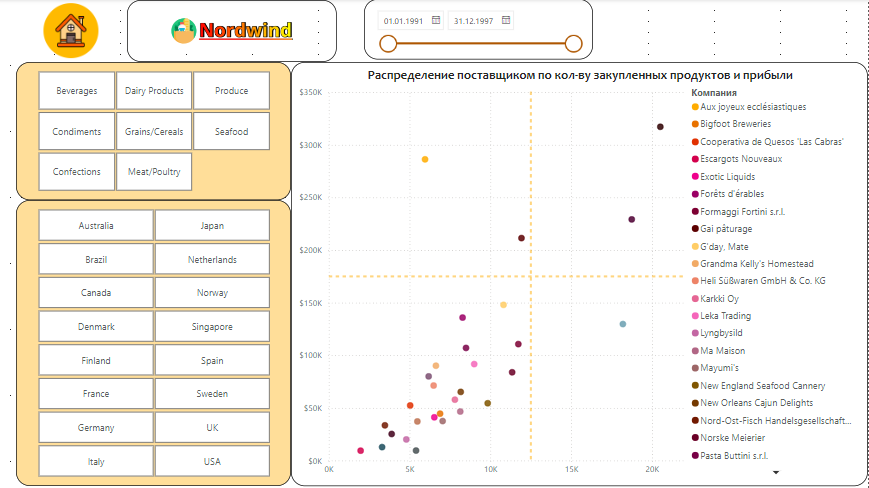

The page's visual inventory and layout, read from the dashboard file:
{"tool":"powerbi","page":{"name":"Поставщики","canvas":[1280,720],"ordinal":6},"visuals":[{"type":"image","box":[201.7,1.7,305,90],"z":0},{"type":"slicer","fields":{"Values":["public categories.category_name"]},"box":[40.7,91.6,400,200.7],"z":1000},{"type":"scatterChart","title":"Распределение поставщиком по кол-ву закупленных продуктов и прибыли","fields":{"Y":["orders_details_all.Total_Profit"],"X":["Sum(orders_details_all.quantity)"],"Series":["public suppliers.company_name"]},"box":[440.7,91.6,839.3,616.7],"z":2000},{"type":"slicer","fields":{"Values":["public suppliers.country"]},"box":[40.7,292.4,400,416],"z":3000},{"type":"slicer","fields":{"Values":["Calendar.Date"]},"box":[546.7,0,333.3,88.3],"z":4000},{"type":"image","box":[75.6,0,90.2,91.6],"z":5000}]}

Visuals, with their boxes in screenshot pixels (x1, y1, x2, y2), scaled from the page's 1280x720 canvas onto the 869x488 screenshot:
image: <box>137,1,344,62</box>
slicer - public categories.category_name: <box>28,62,299,198</box>
"Распределение поставщиком по кол-ву закупленных продуктов и прибыли" scatterChart: <box>299,62,868,480</box>
slicer - public suppliers.country: <box>28,198,299,480</box>
slicer - Calendar.Date: <box>371,0,597,60</box>
image: <box>51,0,113,62</box>
